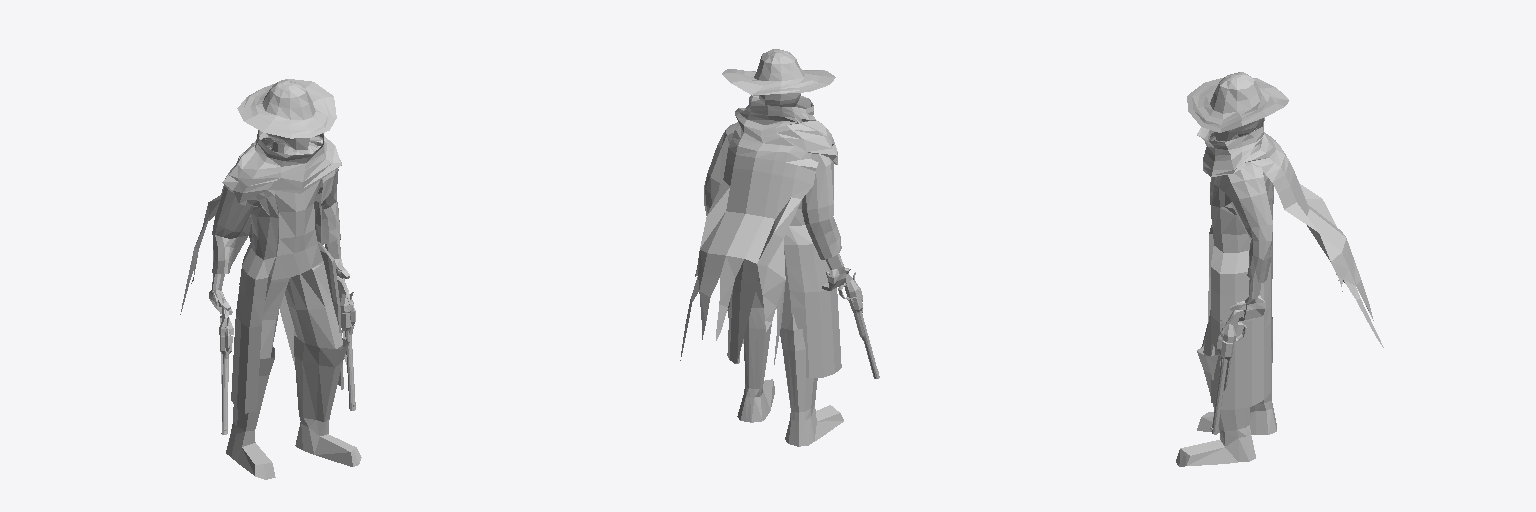
File: hatTip_0.obj
3 renders of one model, left to right at view 1: azimuth 30°, elevation 25°; view 2: azimuth 150°, elevation 25°; view 3: azimuth 270°, elevation 25°, orthographic.
Parts seen in each view (by area): view 1: Gunslinger_Clothing_Cube.004, Default_Body_Cube.003, Boots_Cube.008, Shemagh_Cube.009, Hat_Cube.005, Revolver_Model_Cube.006, Revolver_Model.001_Cube.007; view 2: Shemagh_Cube.009, Gunslinger_Clothing_Cube.004, Boots_Cube.008, Hat_Cube.005, Default_Body_Cube.003, Revolver_Model.001_Cube.007; view 3: Gunslinger_Clothing_Cube.004, Shemagh_Cube.009, Boots_Cube.008, Hat_Cube.005, Default_Body_Cube.003, Revolver_Model_Cube.006.
Part boxes in pixels (x1,y1,x2,y2): Gunslinger_Clothing_Cube.004: (212,142,343,413); Default_Body_Cube.003: (209,133,349,358); Boots_Cube.008: (226,335,361,479); Shemagh_Cube.009: (180,130,341,314); Hat_Cube.005: (237,79,336,138); Revolver_Model_Cube.006: (337,276,355,410); Revolver_Model.001_Cube.007: (219,290,233,434); Shemagh_Cube.009: (680,95,837,364); Gunslinger_Clothing_Cube.004: (704,122,841,377); Boots_Cube.008: (737,308,843,446); Hat_Cube.005: (722,49,835,95); Default_Body_Cube.003: (752,93,850,330); Revolver_Model.001_Cube.007: (826,271,879,378); Gunslinger_Clothing_Cube.004: (1208,130,1273,409); Shemagh_Cube.009: (1197,118,1383,347); Boots_Cube.008: (1176,317,1276,466); Hat_Cube.005: (1187,72,1288,132); Default_Body_Cube.003: (1203,118,1265,355); Revolver_Model_Cube.006: (1210,310,1246,434).
Size of the model in its own units: 2.25 by 5.52 by 2.81.